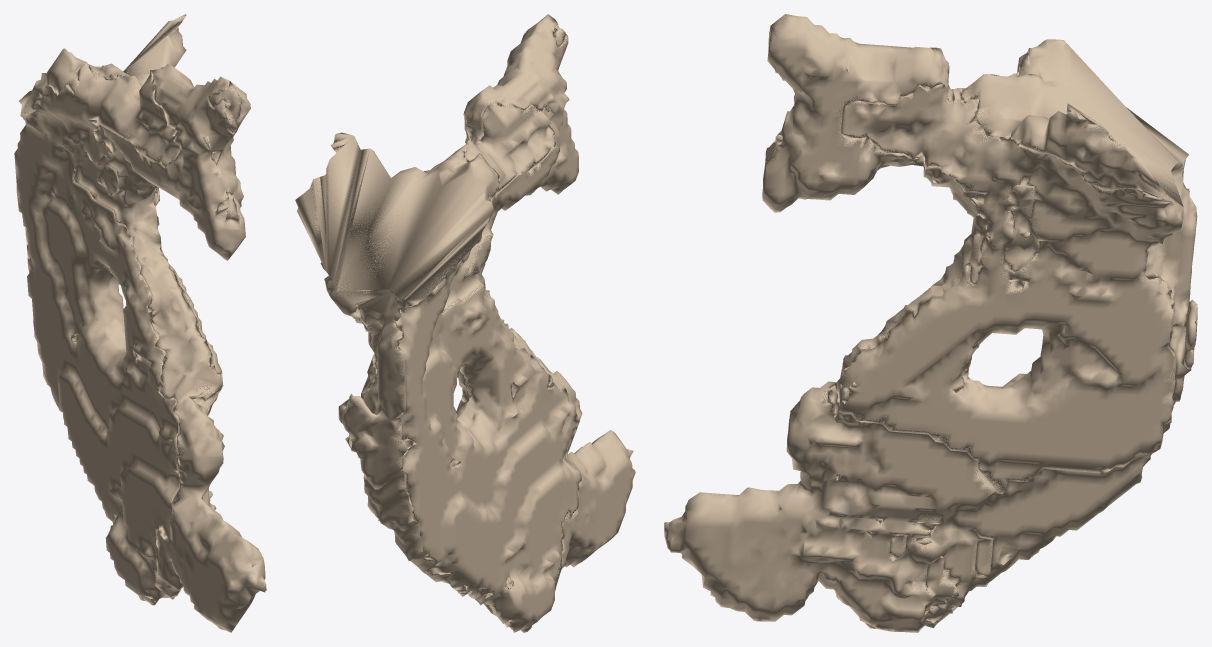
Rendered from ThirdVentricleTwoPieces.fbx.
The picture shows the model from 3 angles, left to right: view 1: azimuth 30°, elevation 25°; view 2: azimuth 150°, elevation 25°; view 3: azimuth 270°, elevation 25°; orthographic projection. The views are drawn at different scales.
Visible parts, largest first — view 1: 3rd Ventricle.001, 3rd Ventricle; view 2: 3rd Ventricle.001, 3rd Ventricle; view 3: 3rd Ventricle.001, 3rd Ventricle.
Part boxes in pixels (x1=…): 3rd Ventricle.001: x1=14, y1=14, x2=266, y2=632; 3rd Ventricle: x1=15, y1=15, x2=265, y2=632; 3rd Ventricle.001: x1=295, y1=14, x2=635, y2=632; 3rd Ventricle: x1=296, y1=14, x2=634, y2=631; 3rd Ventricle.001: x1=664, y1=14, x2=1197, y2=632; 3rd Ventricle: x1=664, y1=15, x2=1197, y2=632.
Bounding box in the file's own units: 2586 × 8379 × 6358.
